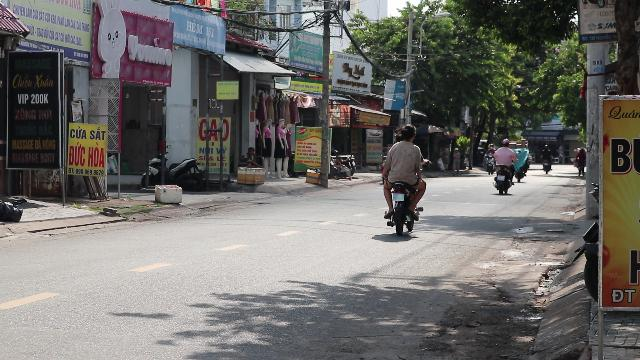motorcyclist: (379, 124, 427, 234)
nohelmet: (400, 123, 416, 141)
